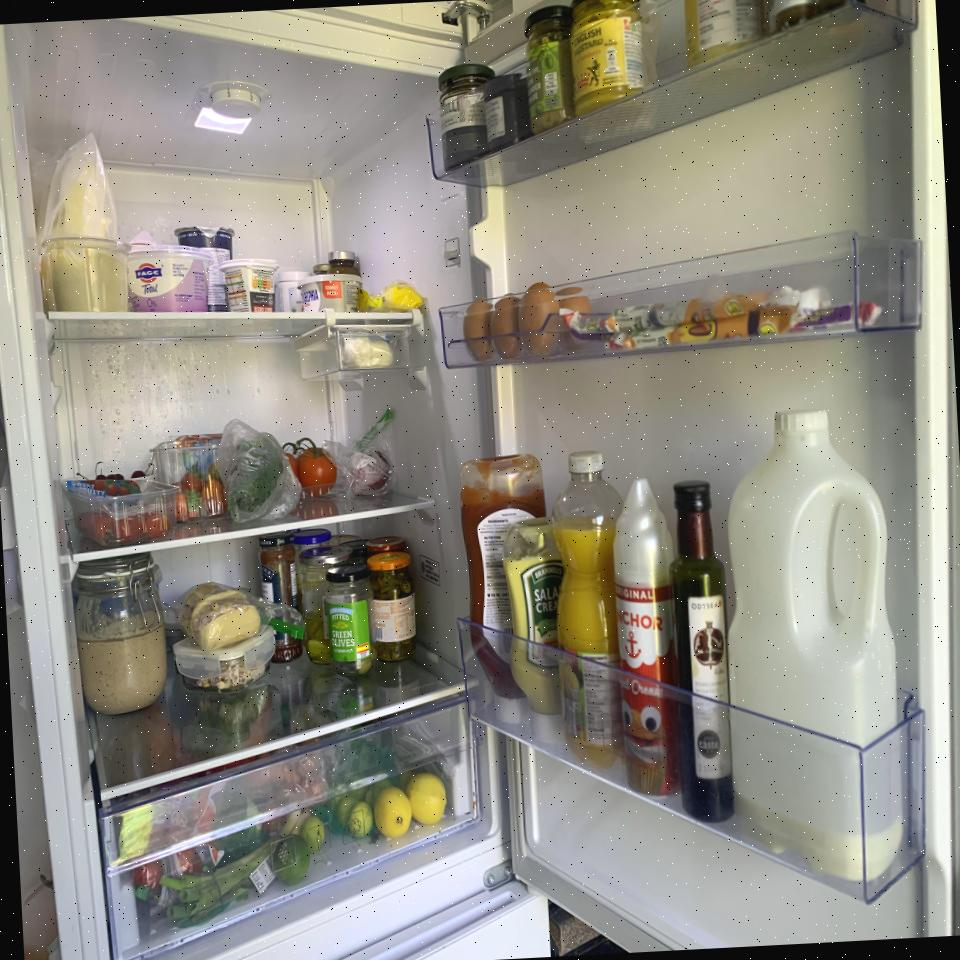Huevos: (461, 282, 591, 360)
Leche: (716, 402, 910, 886)
Limón: (374, 786, 414, 838), (409, 774, 447, 826)
Tomate: (70, 474, 176, 546), (296, 434, 338, 494)
